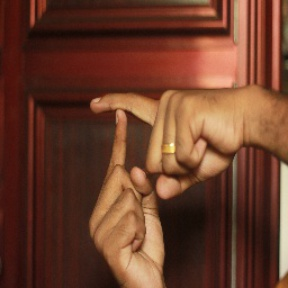T: (71, 85, 173, 210)
